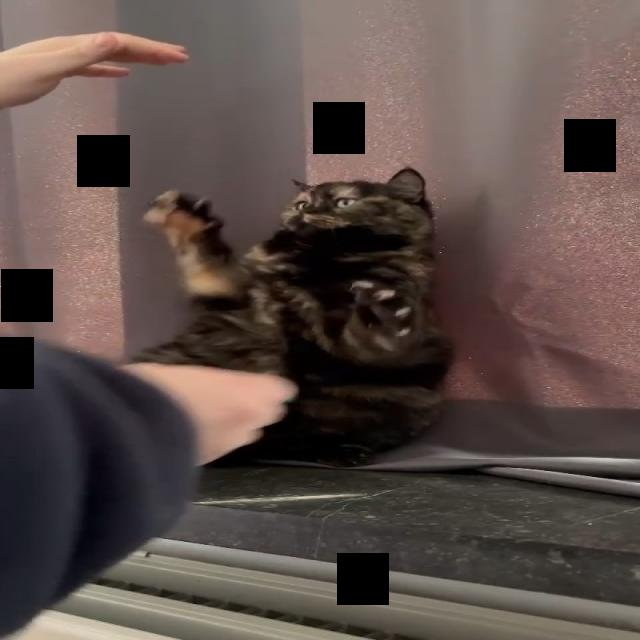authorized: (129, 166, 455, 468)
